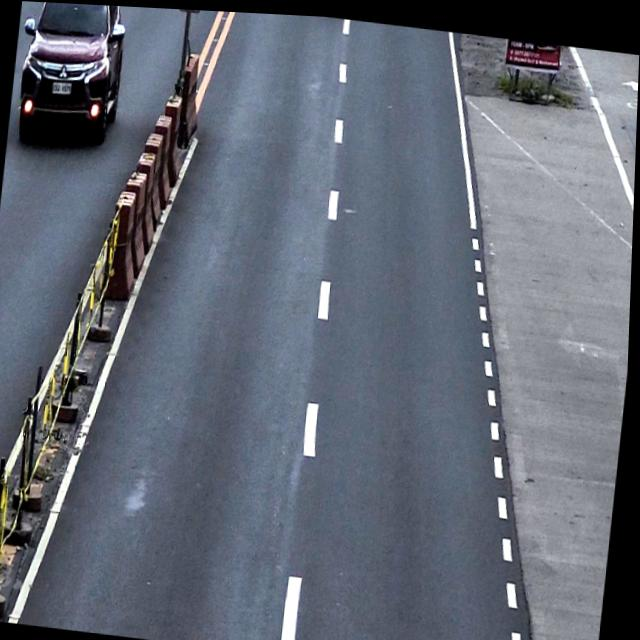Car: (13, 1, 129, 149)
License-Plate: (51, 77, 73, 96)
